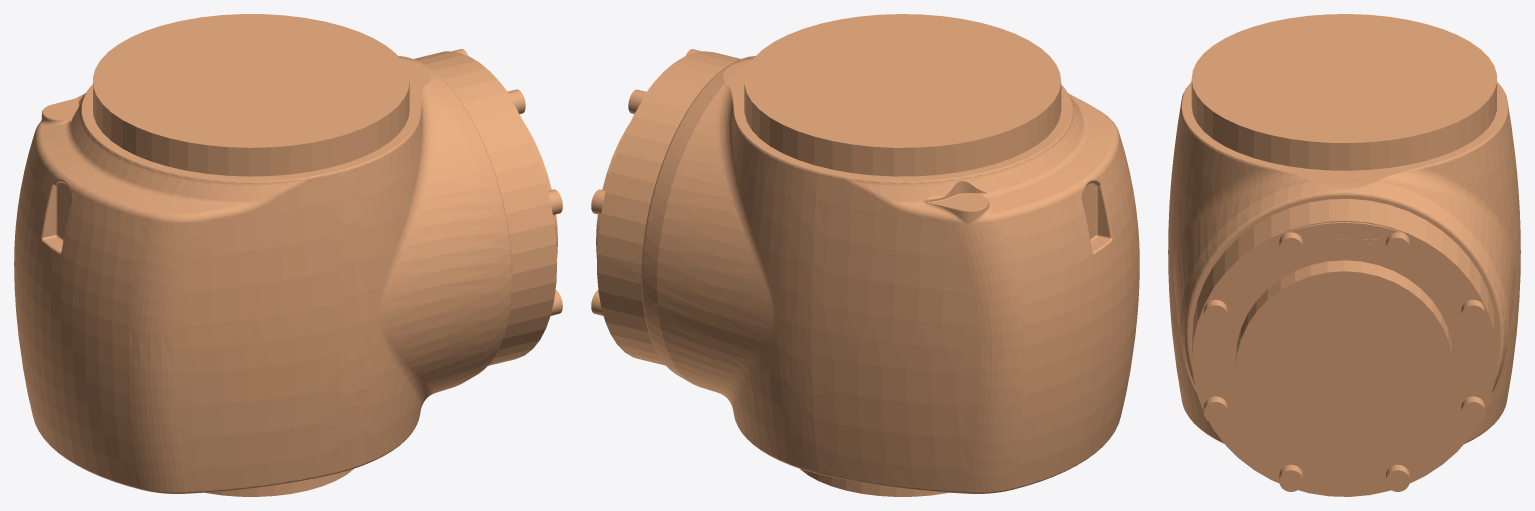
The picture shows the model from 3 angles, left to right: view 1: azimuth 30°, elevation 25°; view 2: azimuth 150°, elevation 25°; view 3: azimuth 270°, elevation 25°; orthographic projection. The views are drawn at different scales.
Parts seen in each view (by area): view 1: /Link_5/Link_5_001-mesh/0; view 2: /Link_5/Link_5_001-mesh/0; view 3: /Link_5/Link_5_001-mesh/0.
Part boxes in pixels (bbox=[...]): /Link_5/Link_5_001-mesh/0: bbox=[14, 14, 562, 496]; /Link_5/Link_5_001-mesh/0: bbox=[591, 14, 1139, 496]; /Link_5/Link_5_001-mesh/0: bbox=[1168, 14, 1520, 496].
Bounding box in the file's own units: 0.1165 × 0.09 × 0.081.
